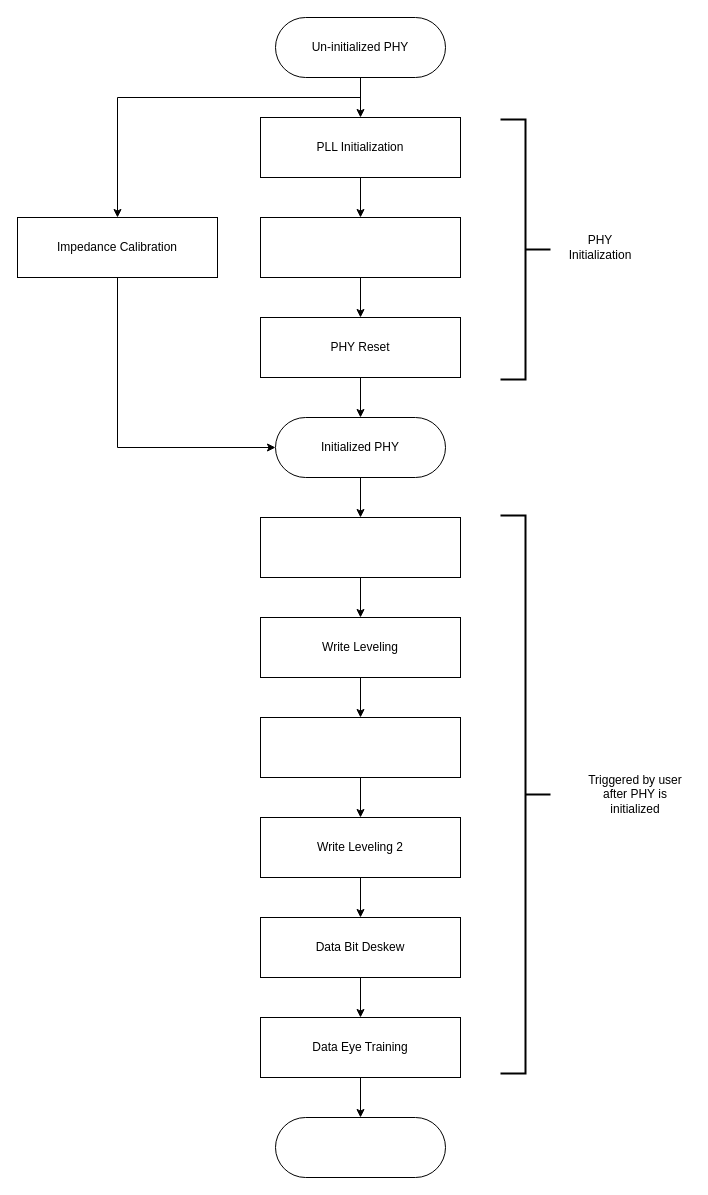
Some shapes in this 708 by 1195 pixel diagram are drawn without their labels. The centre of each missing label's shape, as x and y in pixels:
Delay Line Calibration: the point at 360,247
DQS Gate Training: the point at 360,747
PHY is Ready: the point at 360,1147
SDRAM Initialization: the point at 360,547
